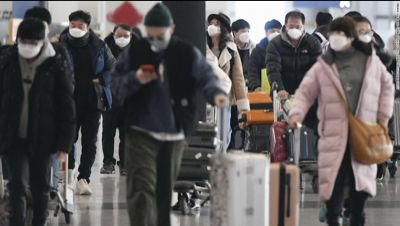with-mask: (142, 2, 178, 58), (12, 15, 46, 63), (61, 9, 98, 46), (325, 16, 360, 54), (206, 8, 232, 49), (282, 8, 308, 45), (233, 15, 254, 53), (108, 22, 137, 49), (260, 18, 287, 47), (352, 17, 378, 45)
